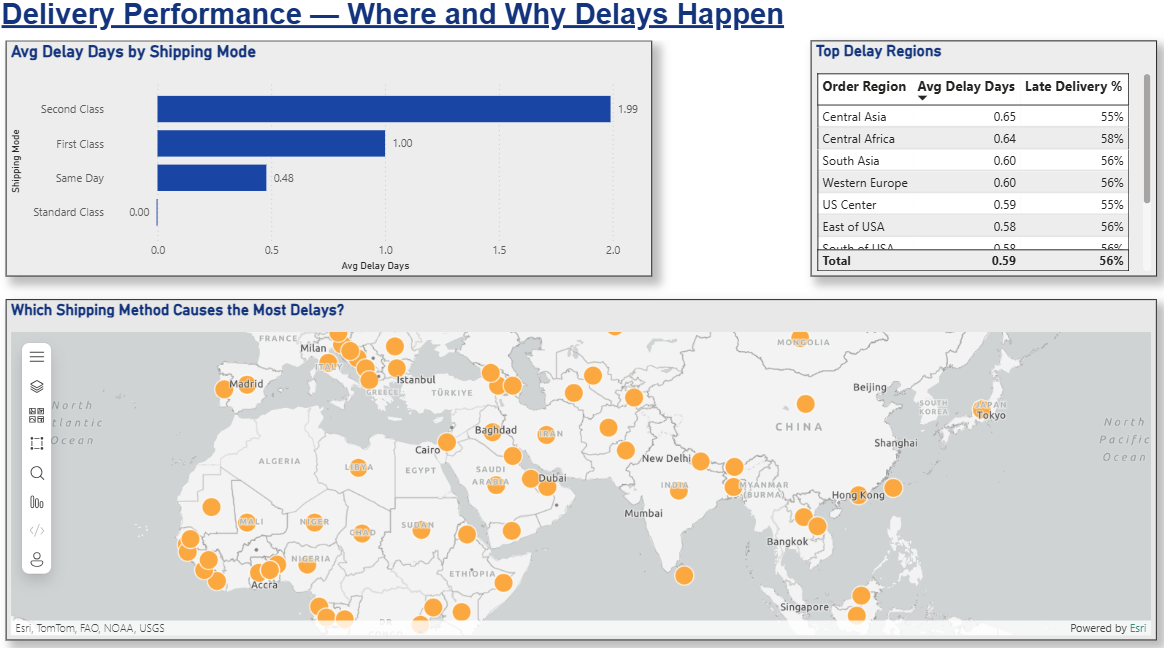

What the dashboard file says about the page in this screenshot:
{"tool":"powerbi","page":{"name":"Delivery Performance","canvas":[1280,720],"ordinal":1},"visuals":[{"type":"clusteredBarChart","fields":{"Category":["supply_chain_clean.Shipping Mode"],"Y":["supply_chain_clean.Avg Delay Days"]},"box":[9.6,0,668.3,285.4],"z":0},{"type":"map","fields":{"Category":["supply_chain_clean.Order Country"],"Size":["supply_chain_clean.Avg Delay Days"]},"box":[0,295,1280.3,425.4],"z":1},{"type":"tableEx","fields":{"Values":["supply_chain_clean.Order Region","supply_chain_clean.Avg Delay Days","supply_chain_clean.Late Delivery %"]},"box":[824.7,9.6,367.8,285.4],"z":2}]}

Visuals, with their boxes in screenshot pixels (x1, y1, x2, y2), scaled from the page's 1280x720 canvas onto the 1164x648 screenshot:
clusteredBarChart - supply_chain_clean.Shipping Mode x supply_chain_clean.Avg Delay Days: x1=9, y1=0, x2=616, y2=257
map - supply_chain_clean.Order Country x supply_chain_clean.Avg Delay Days: x1=0, y1=266, x2=1163, y2=647
tableEx - supply_chain_clean.Order Region x supply_chain_clean.Avg Delay Days: x1=750, y1=9, x2=1084, y2=266
